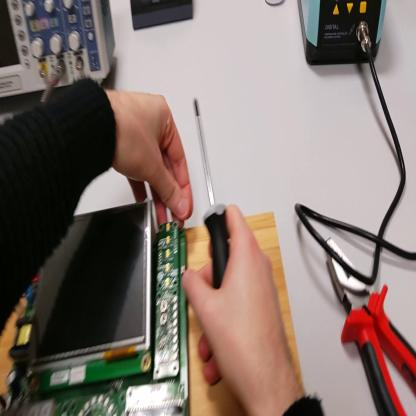hand: (185, 209, 291, 401), (109, 90, 194, 226)
low voltage board: (1, 197, 195, 416)
oscilloscope: (2, 1, 117, 107)
pliers: (327, 235, 416, 416)
screwdriver-: (195, 96, 232, 287)
welder station: (299, 2, 388, 64)
working area: (2, 211, 306, 415)
